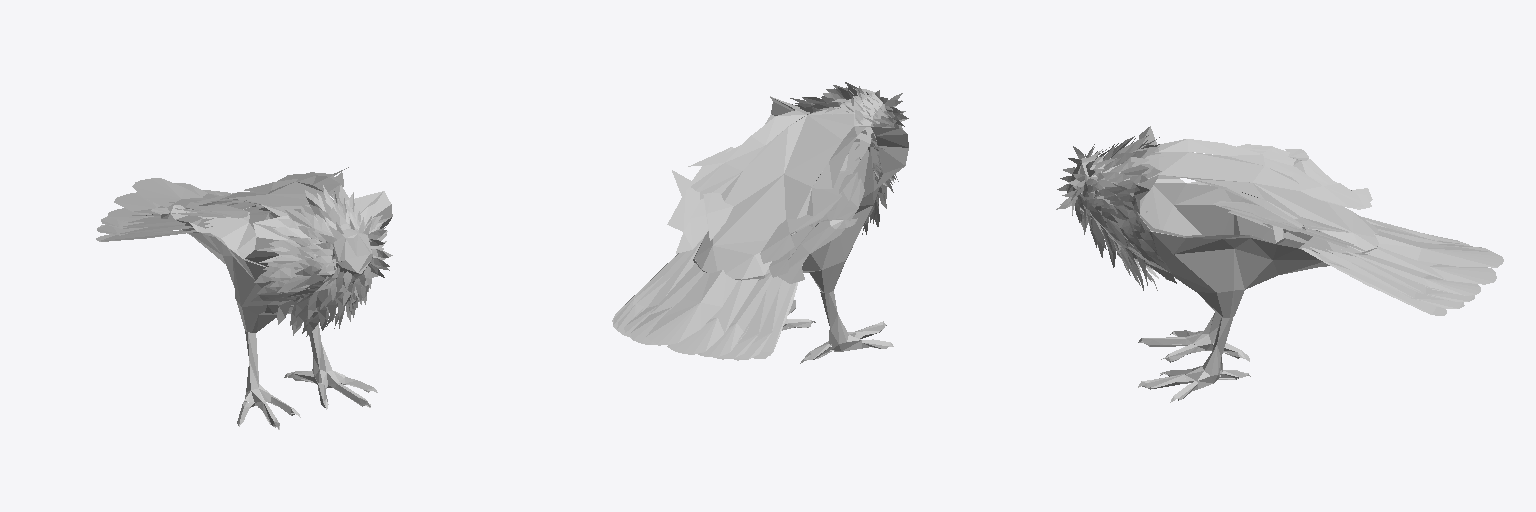
The model's file is condor_cuerpo.obj.
The picture shows the model from 3 angles: view 1: azimuth 30°, elevation 25°; view 2: azimuth 150°, elevation 25°; view 3: azimuth 270°, elevation 25°; orthographic projection.
Parts seen in each view (by area): view 1: cuerpo; view 2: cuerpo; view 3: cuerpo.
Boxes of the visible parts, x1=… form: cuerpo: x1=96, y1=167, x2=392, y2=429; cuerpo: x1=612, y1=82, x2=908, y2=363; cuerpo: x1=1056, y1=126, x2=1503, y2=402.
Size of the model in its own units: 0.4675 by 0.5432 by 0.9539.